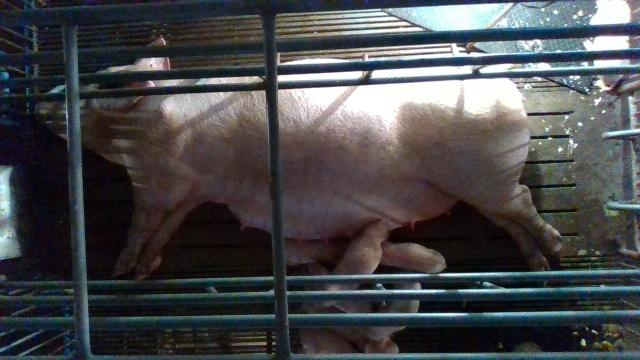piglet: (312, 223, 384, 307), (298, 302, 398, 356), (359, 271, 421, 339), (380, 241, 447, 273)
sow-sleep-lactate: (34, 37, 563, 273)
